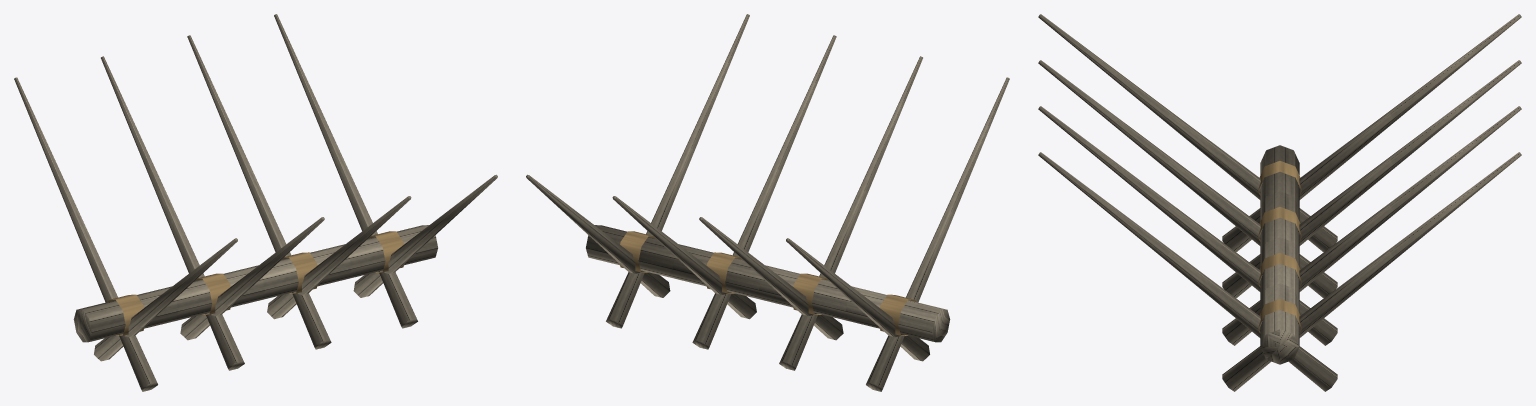
The model's file is Stakes_Chevaux_1.gltf.
3 renders of one model, left to right at view 1: azimuth 30°, elevation 25°; view 2: azimuth 150°, elevation 25°; view 3: azimuth 270°, elevation 25°, orthographic. The views are drawn at different scales.
Visible parts, largest first — view 1: Stakes_Chevaux_1; view 2: Stakes_Chevaux_1; view 3: Stakes_Chevaux_1.
Boxes of the visible parts, left/top/right/bottom form: Stakes_Chevaux_1: left=14, top=14, right=497, bottom=391; Stakes_Chevaux_1: left=526, top=14, right=1009, bottom=391; Stakes_Chevaux_1: left=1038, top=14, right=1521, bottom=391.
Bounding box in the file's own units: 4 × 2.4 × 4.44.
Materials: 2 (2 with a texture image).
